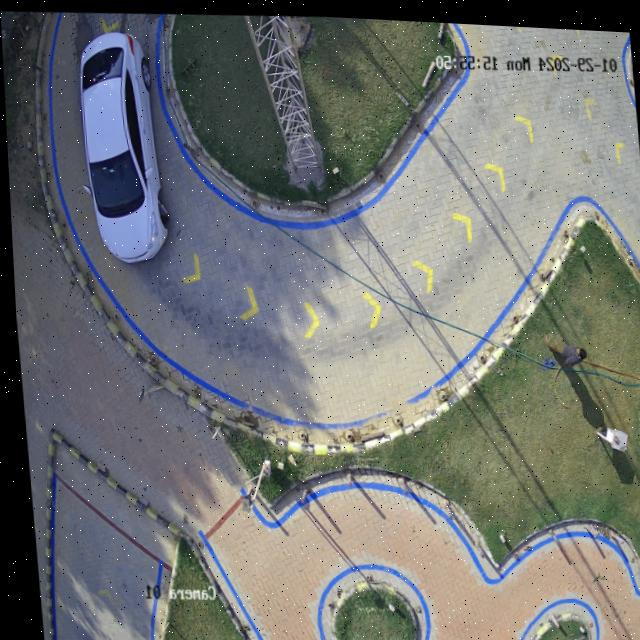car: (79, 32, 166, 260)
